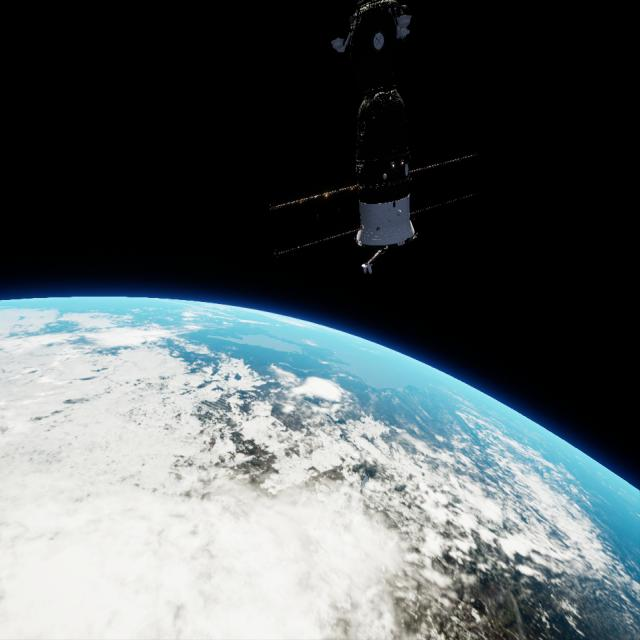Satellites revolving around earth: (1, 295, 638, 638)
